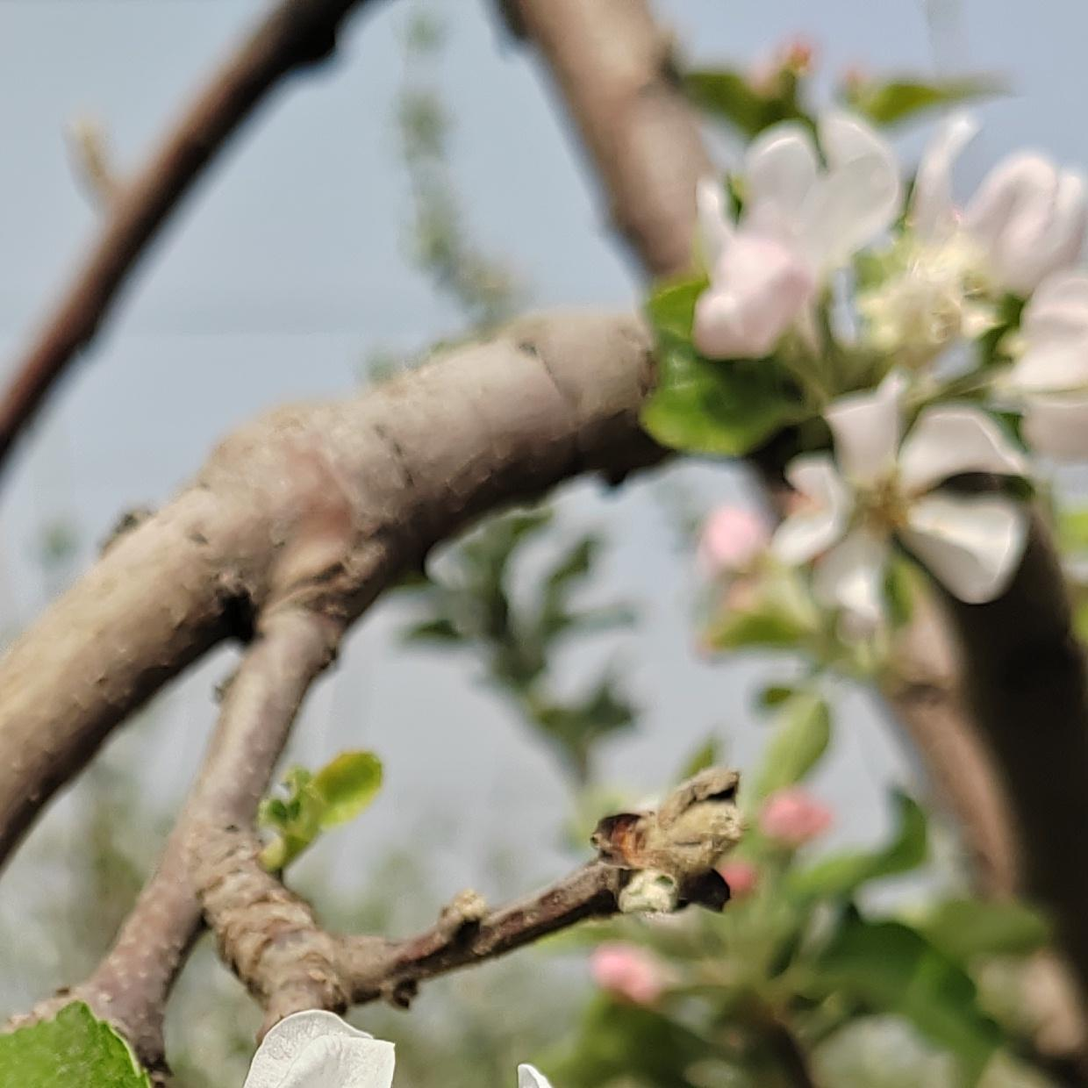apple_flower: (693, 104, 1088, 639)
